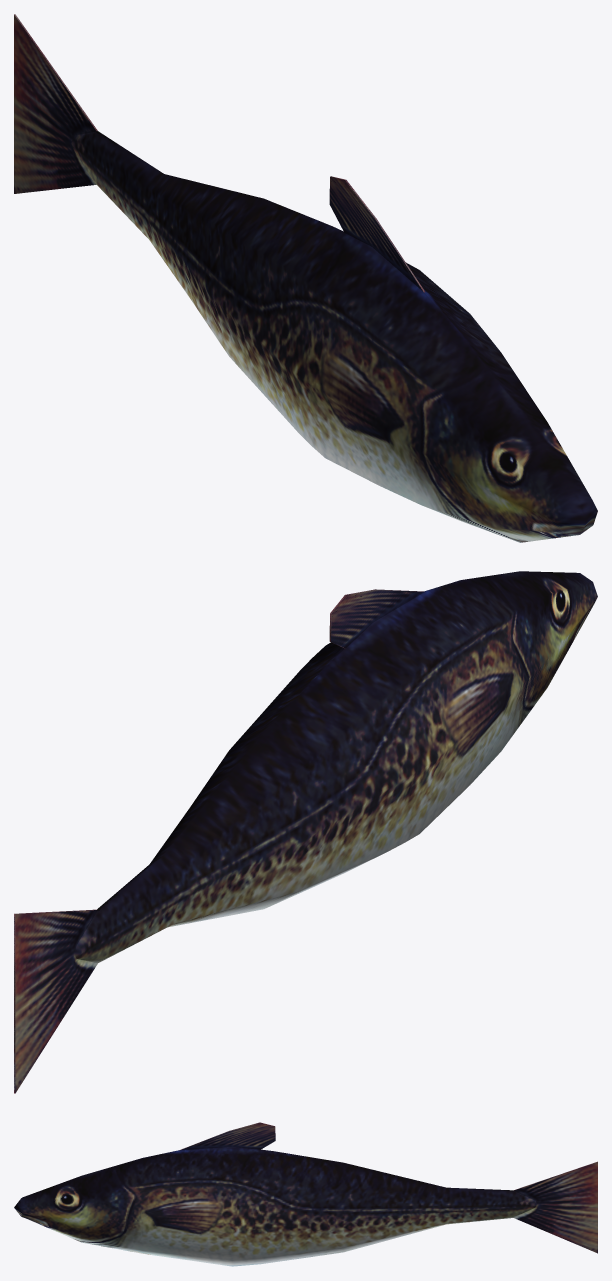
Rendered from lowpoly_fish.glb.
3 renders of one model, top to bottom at view 1: azimuth 30°, elevation 25°; view 2: azimuth 150°, elevation 25°; view 3: azimuth 270°, elevation 25°, orthographic. The views are drawn at different scales.
Parts seen in each view (by area): view 1: pCube1; view 2: pCube1; view 3: pCube1.
Part boxes in pixels (box(x1,y1,x2,y2)): pCube1: box(14, 14, 597, 542); pCube1: box(14, 571, 597, 1093); pCube1: box(14, 1122, 597, 1266).
Size of the model in its own units: 7.97 by 15.97 by 58.67.
Materials: 1 (1 with a texture image).
